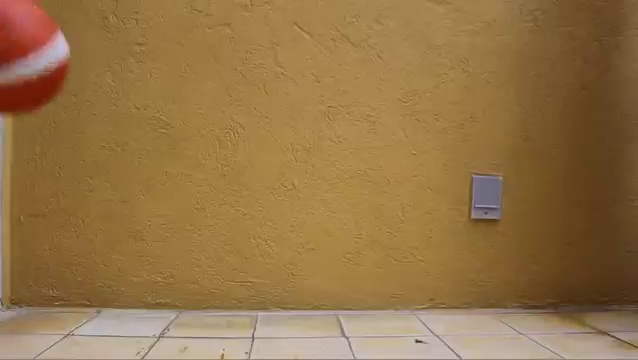ball: (1, 1, 72, 119)
